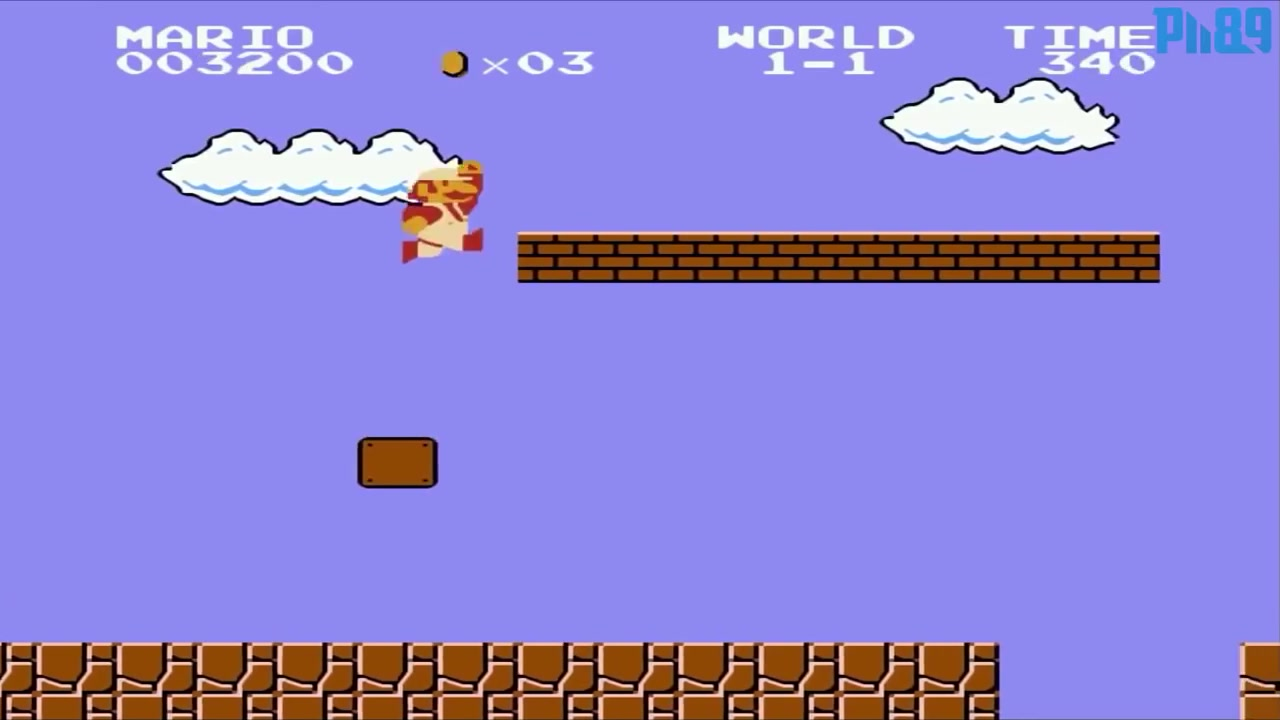mario: (387, 155, 492, 275)
